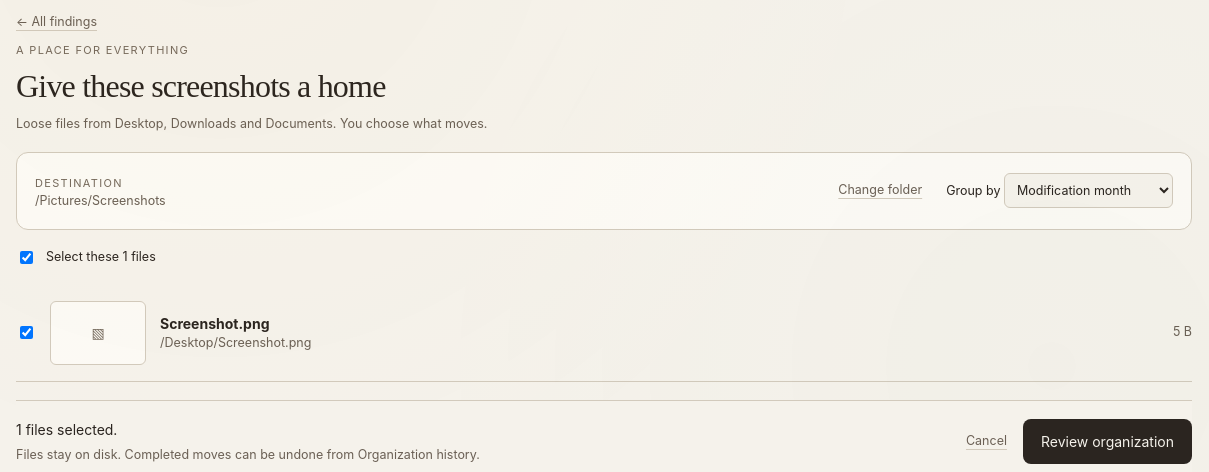
Scenario: reports a failed plan without enabling execution
The image size is (1209, 472).
(page scrolled)
Click the button "Review organization" at (1108, 441), box [1023,419,1192,464]
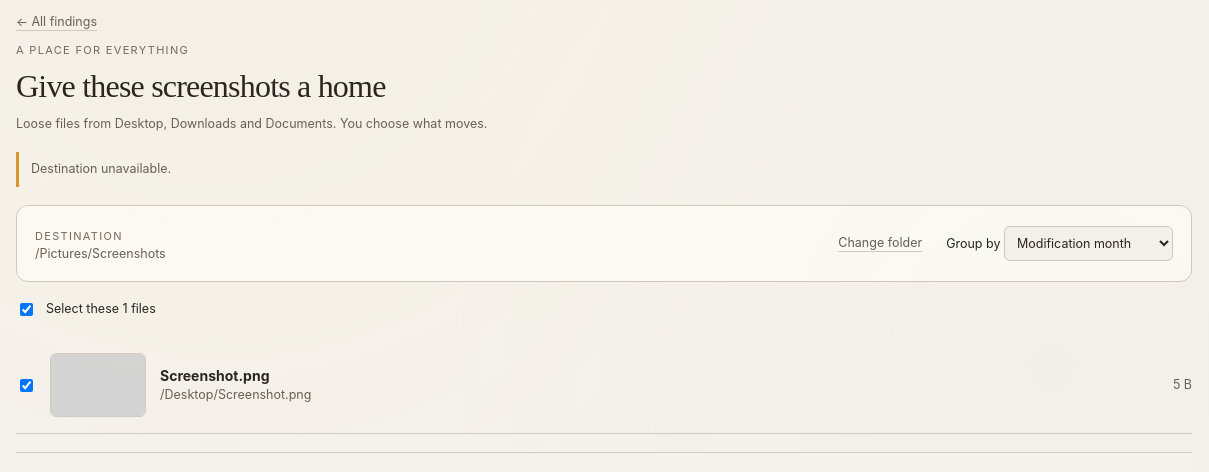
Expected: the message "Destination unavailable." is shown, [16,152,1192,187]
